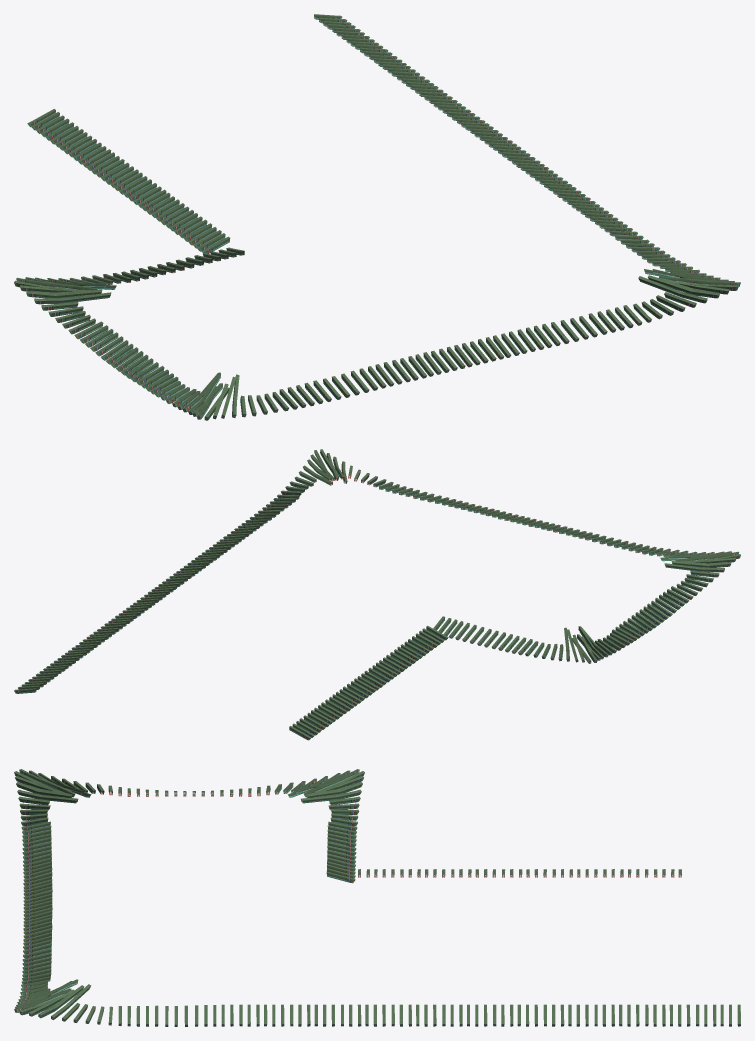
The model's file is SM_Buyeon05D.fbx.
3 renders of one model, top to bottom at view 1: azimuth 30°, elevation 25°; view 2: azimuth 150°, elevation 25°; view 3: azimuth 270°, elevation 25°, orthographic. The views are drawn at different scales.
Parts seen in each view (by area): view 1: SM_Buyeon05D; view 2: SM_Buyeon05D; view 3: SM_Buyeon05D.
Boxes of the visible parts, x1=… form: SM_Buyeon05D: x1=14, y1=14, x2=740, y2=420; SM_Buyeon05D: x1=14, y1=449, x2=740, y2=740; SM_Buyeon05D: x1=14, y1=769, x2=740, y2=1026.
Size of the model in its own units: 1501 by 1889 by 69.85.
